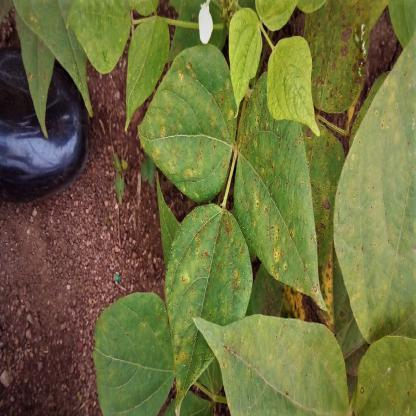Beans_Rust: (335, 34, 416, 349), (163, 192, 253, 404), (240, 82, 318, 302), (196, 314, 352, 416), (140, 45, 238, 206)
